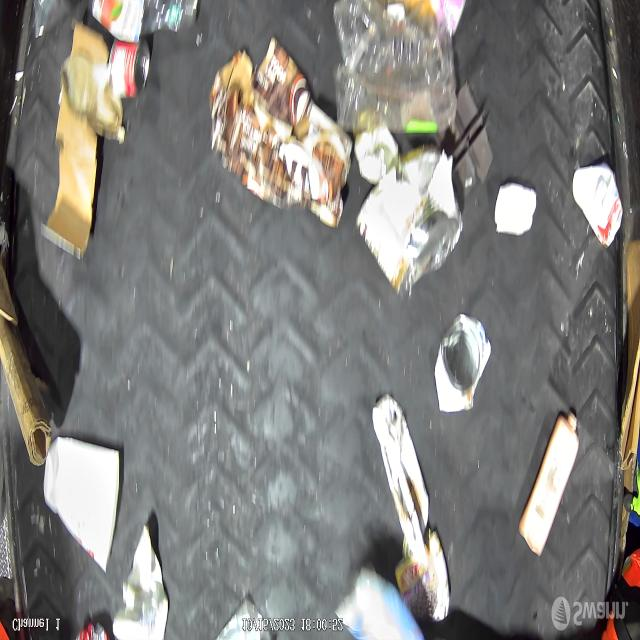can: (357, 145, 462, 294), (434, 313, 492, 414), (572, 162, 624, 246), (108, 38, 151, 98)
plastic_bottle: (331, 0, 457, 138)
